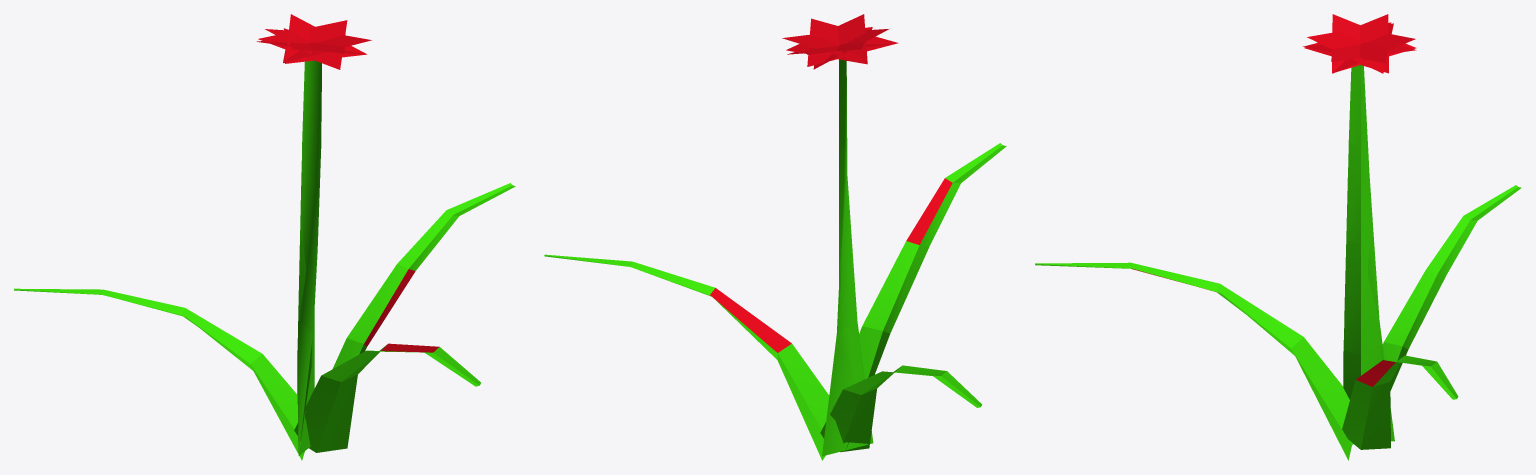
The model's file is Flower.fbx.
3 views of the same model, side by side, from view 1: azimuth 30°, elevation 25°; view 2: azimuth 150°, elevation 25°; view 3: azimuth 270°, elevation 25° (orthographic).
Parts seen in each view (by area): view 1: FlowerNear, FlowerFar; view 2: FlowerNear, FlowerFar; view 3: FlowerNear, FlowerFar.
Boxes of the visible parts, x1,y1,x2,y2 form: FlowerNear: (14,20,515,460); FlowerFar: (256,14,367,454); FlowerNear: (544,18,1006,460); FlowerFar: (786,14,889,456); FlowerNear: (1035,14,1521,460); FlowerFar: (1307,22,1415,435).
Size of the model in its own units: 1.23 by 1.06 by 1.12.
